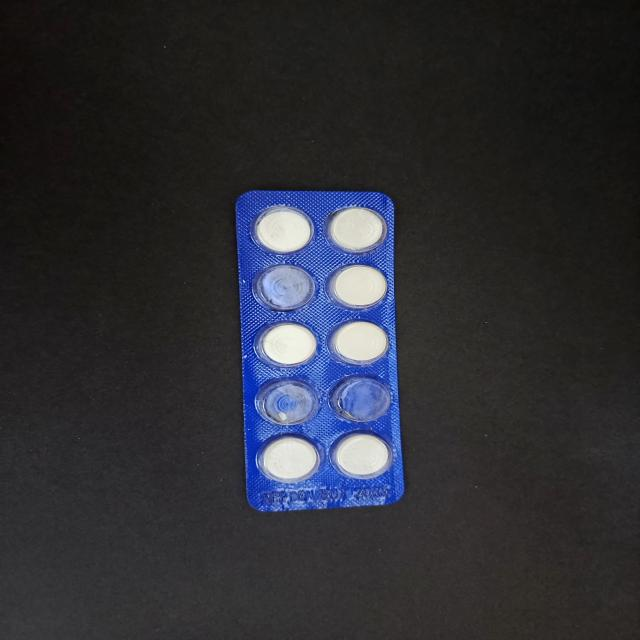defect: (251, 262, 320, 314), (326, 372, 394, 423), (254, 376, 322, 427)
